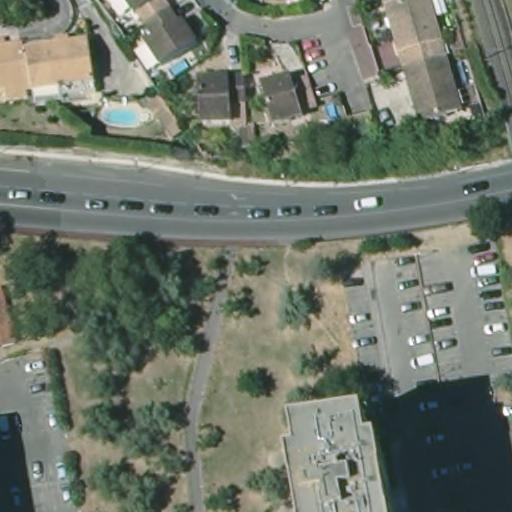pool: (97, 102, 150, 129), (167, 55, 192, 78), (322, 101, 341, 122)
